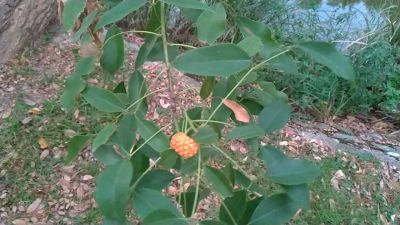eggs: (167, 131, 205, 160)
